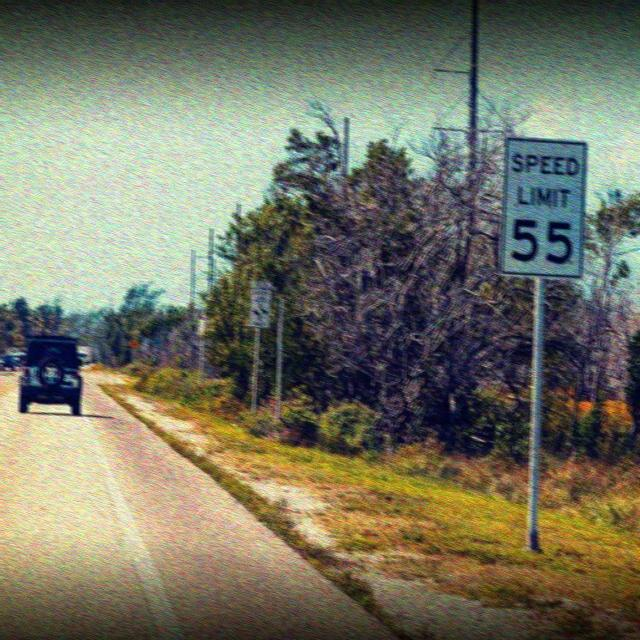speedLimit55: (504, 134, 583, 278)
